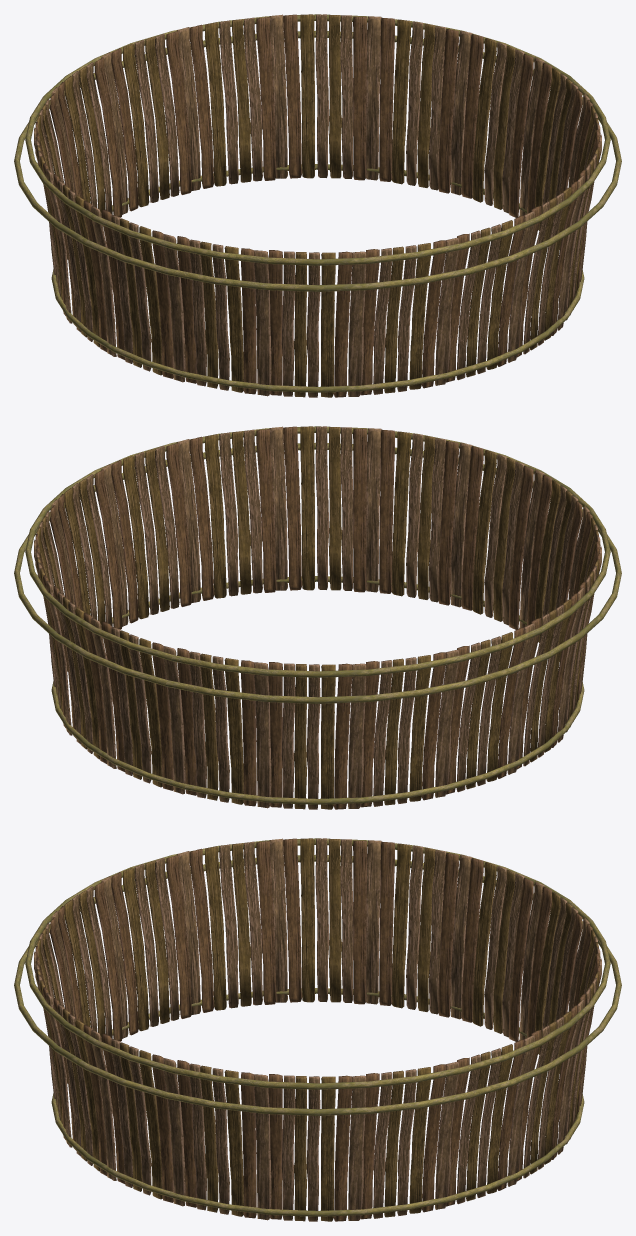
File: SM_center_hut_double_support.fbx
3 views of the same model, one above another, from view 1: azimuth 30°, elevation 25°; view 2: azimuth 150°, elevation 25°; view 3: azimuth 270°, elevation 25° (orthographic).
Parts seen in each view (by area): view 1: center_hut_double_support; view 2: center_hut_double_support; view 3: center_hut_double_support.
Boxes of the visible parts, x1,y1,x2,y2 form: center_hut_double_support: (14,14,621,397); center_hut_double_support: (14,426,621,809); center_hut_double_support: (14,838,621,1221).
Size of the model in its own units: 1717 by 480 by 1717.
